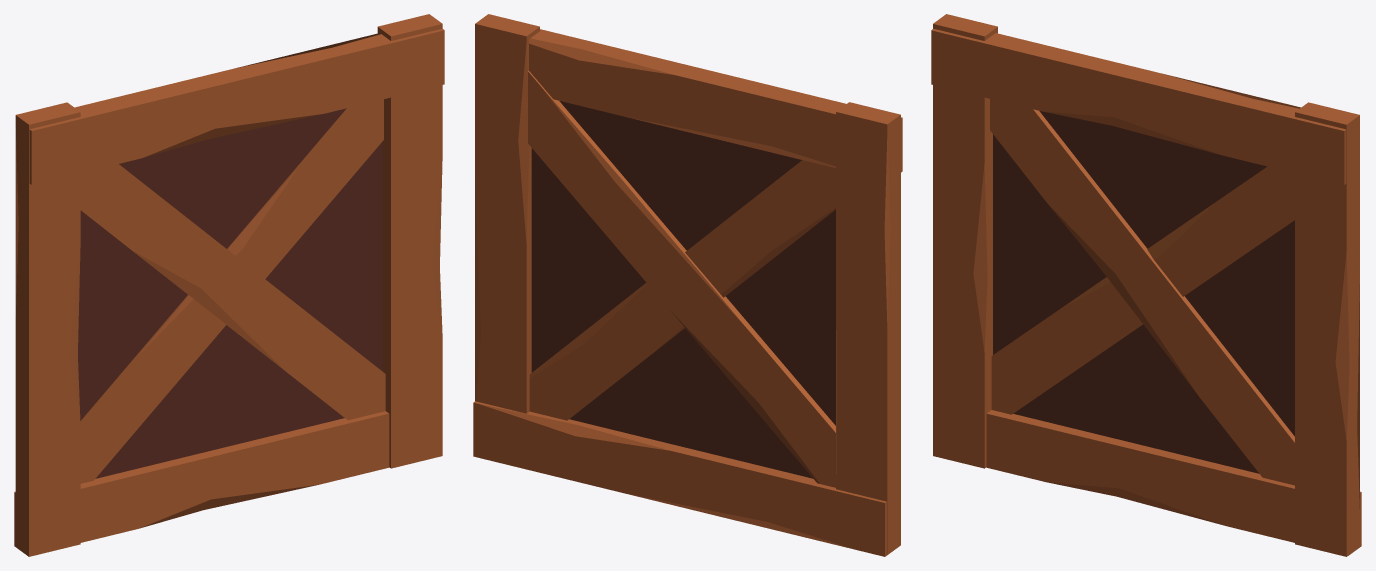
Rendered from door.fbx.
3 views of the same model, side by side, from view 1: azimuth 30°, elevation 25°; view 2: azimuth 150°, elevation 25°; view 3: azimuth 330°, elevation 25° (orthographic).
Visible parts, largest first — view 1: 立方体.051, 平面.001; view 2: 立方体.051, 平面.001; view 3: 立方体.051, 平面.001.
Part boxes in pixels (left/top/right/bottom): 立方体.051: left=14, top=14, right=444, bottom=556; 平面.001: left=78, top=108, right=382, bottom=478; 立方体.051: left=473, top=14, right=902, bottom=556; 平面.001: left=531, top=101, right=835, bottom=478; 立方体.051: left=931, top=14, right=1361, bottom=556; 平面.001: left=993, top=111, right=1294, bottom=473.
Bounding box in the file's own units: 88.26 × 1195 × 1194.
